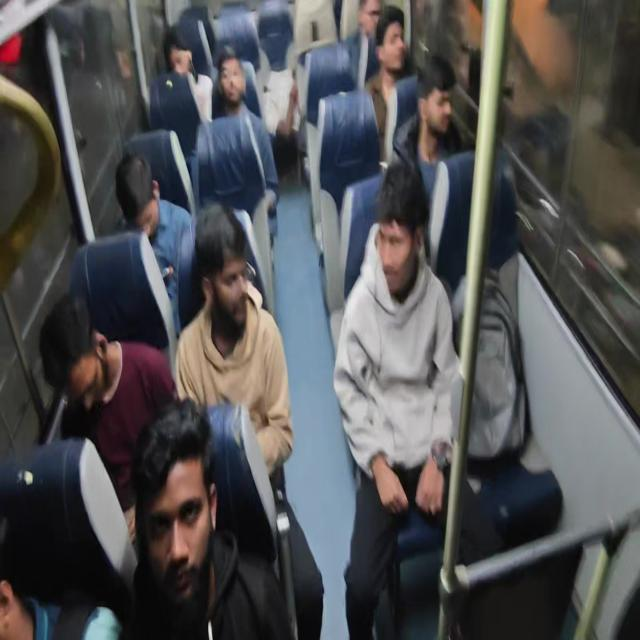person: (332, 160, 465, 637), (123, 397, 294, 639), (39, 291, 178, 528), (174, 202, 294, 476), (391, 53, 518, 293), (0, 435, 137, 639), (204, 45, 296, 234), (114, 150, 196, 333), (391, 53, 462, 213), (363, 5, 413, 165), (162, 25, 213, 123), (344, 0, 382, 89)
